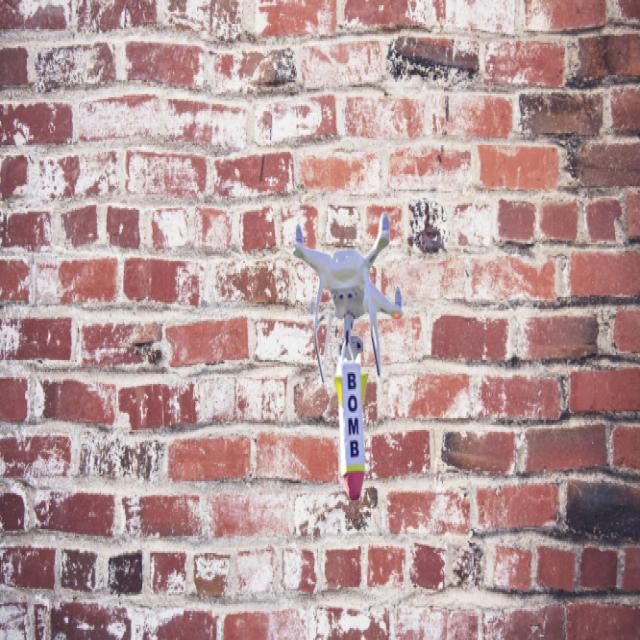drones: (276, 186, 418, 400)
